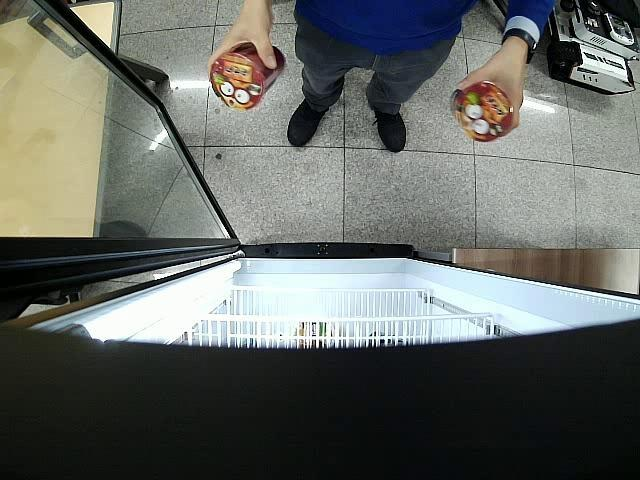06_nuguri_S: (211, 42, 286, 110), (450, 82, 512, 142)
